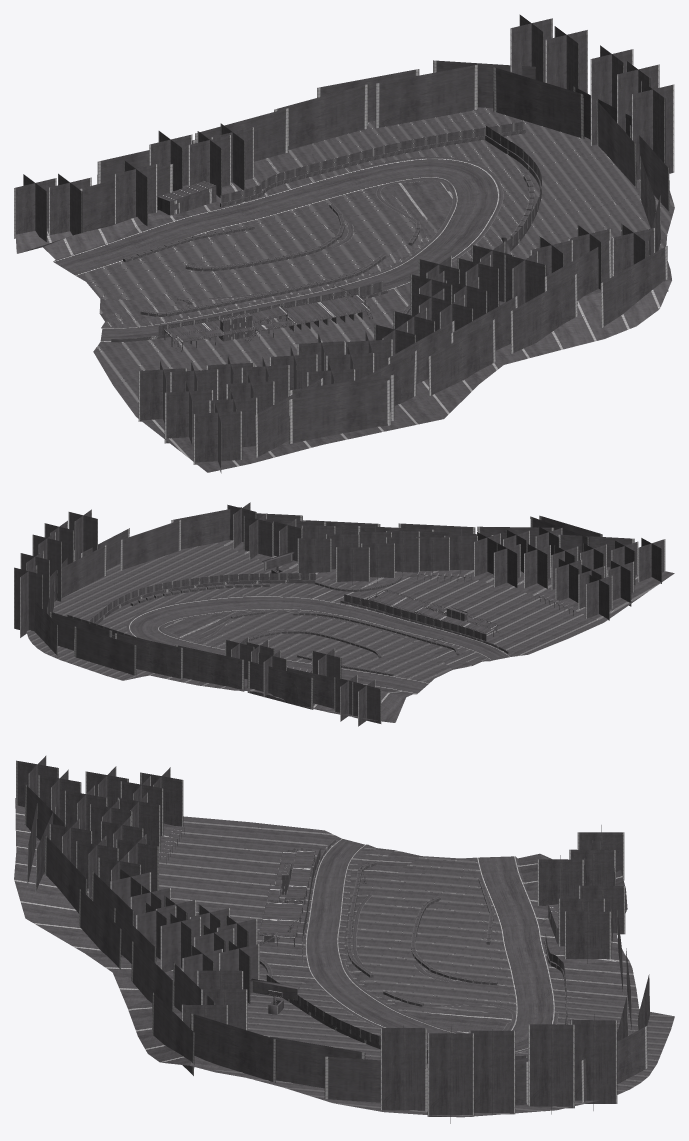
The model's file is ebisuland1.glb.
3 renders of one model, top to bottom at view 1: azimuth 30°, elevation 25°; view 2: azimuth 150°, elevation 25°; view 3: azimuth 270°, elevation 25°, orthographic. The views are drawn at different scales.
Visible parts, largest first — view 1: ebisuland1; view 2: ebisuland1; view 3: ebisuland1.
Part boxes in pixels (x1,y1,x2,y2): ebisuland1: (14, 14, 674, 473); ebisuland1: (14, 502, 674, 726); ebisuland1: (14, 755, 674, 1123).
Size of the model in its own units: 222 by 31.52 by 197.
Materials: 1 (1 with a texture image).
